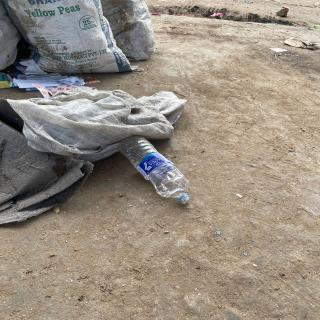Plastic-bottle: (115, 134, 196, 210)
